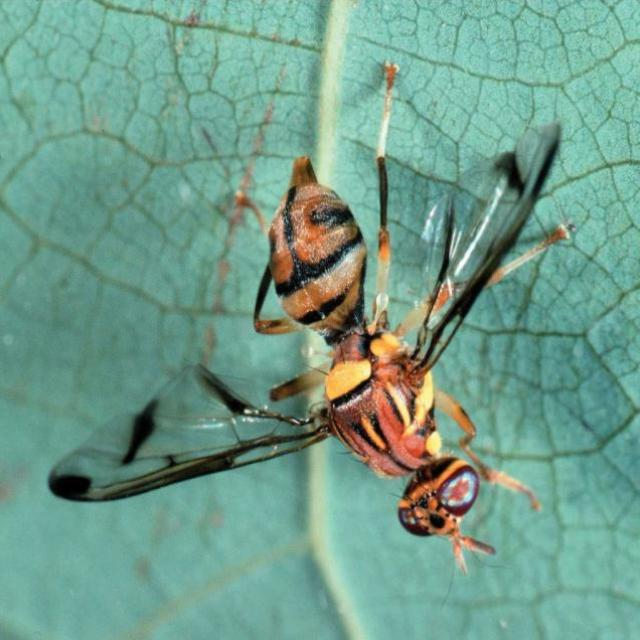Fruit fly: (37, 52, 579, 585)
